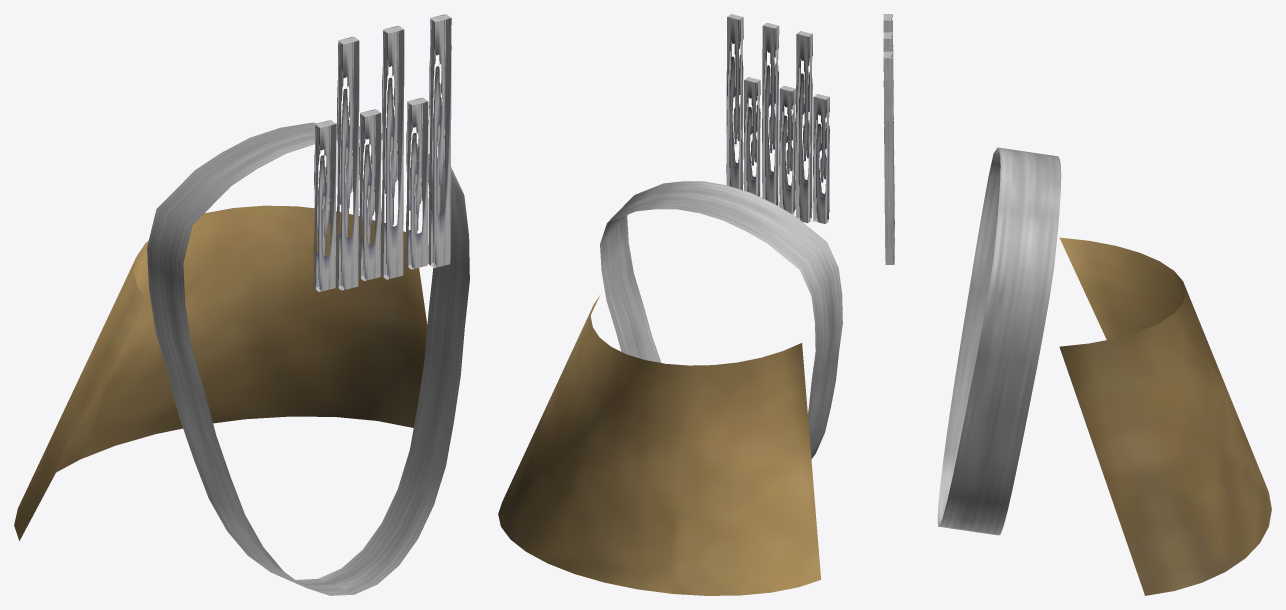
The model's file is helmet_moch_fisher_1.dae.
3 views of the same model, side by side, from view 1: azimuth 30°, elevation 25°; view 2: azimuth 150°, elevation 25°; view 3: azimuth 270°, elevation 25° (orthographic). The views are drawn at different scales.
Parts seen in each view (by area): view 1: helmet_moch_fisher_1; view 2: helmet_moch_fisher_1; view 3: helmet_moch_fisher_1.
Part boxes in pixels (x1,y1,x2,y2): helmet_moch_fisher_1: (14, 14, 469, 595); helmet_moch_fisher_1: (498, 14, 842, 595); helmet_moch_fisher_1: (883, 14, 1271, 595).
Bounding box in the file's own units: 0.7223 × 0.7071 × 0.9685.
